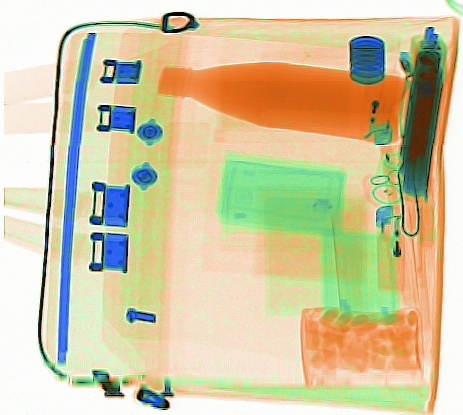lighter: (360, 62, 400, 146), (372, 204, 405, 295)
